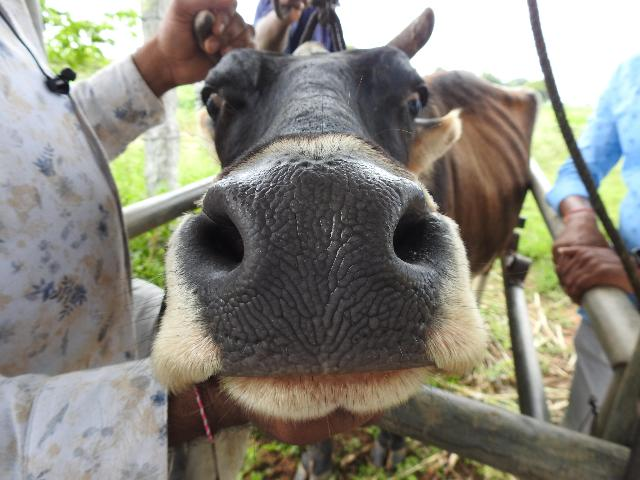Muzzle: (218, 175, 406, 371)
